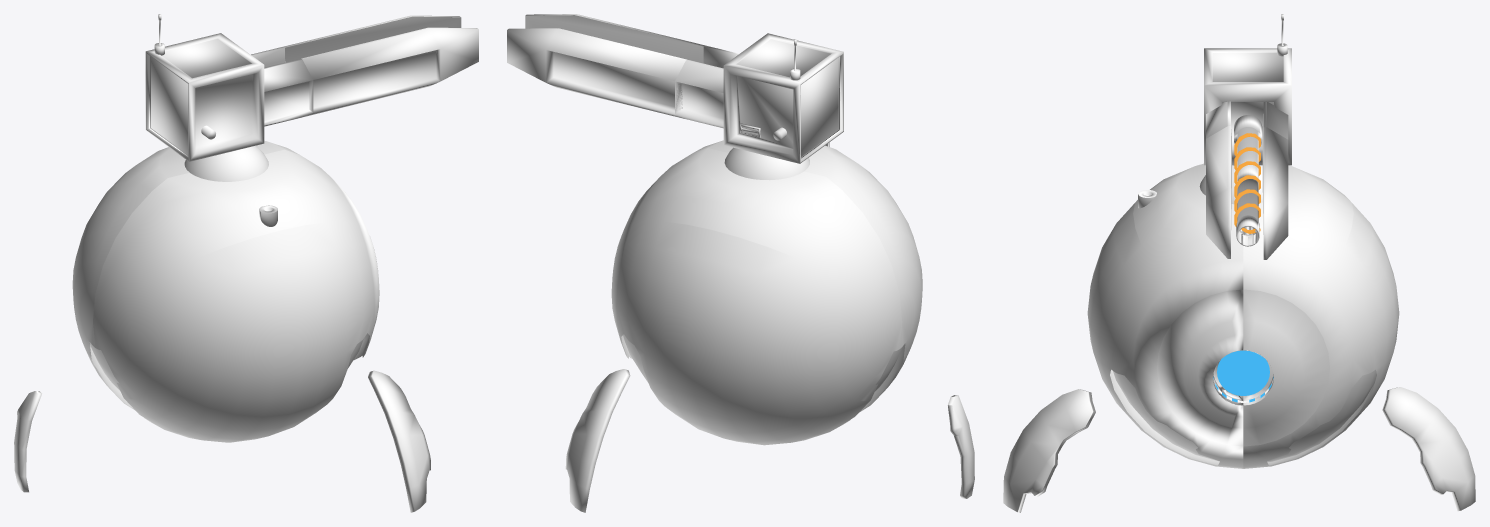
The model's file is Player sphere.glb.
3 renders of one model, left to right at view 1: azimuth 30°, elevation 25°; view 2: azimuth 150°, elevation 25°; view 3: azimuth 270°, elevation 25°, orthographic.
Parts seen in each view (by area): view 1: main body, main body.001; view 2: main body, main body.001; view 3: main body, main body.001, Spiral.
Boxes of the visible parts, x1,y1,x2,y2 form: main body: (14,140,430,512); main body.001: (145,14,478,161); main body: (565,140,974,512); main body.001: (507,14,843,163); main body: (1003,163,1475,512); main body.001: (1204,14,1291,259); Spiral: (1234,133,1260,233).
Size of the model in its own units: 3.38 by 3.06 by 3.03.
